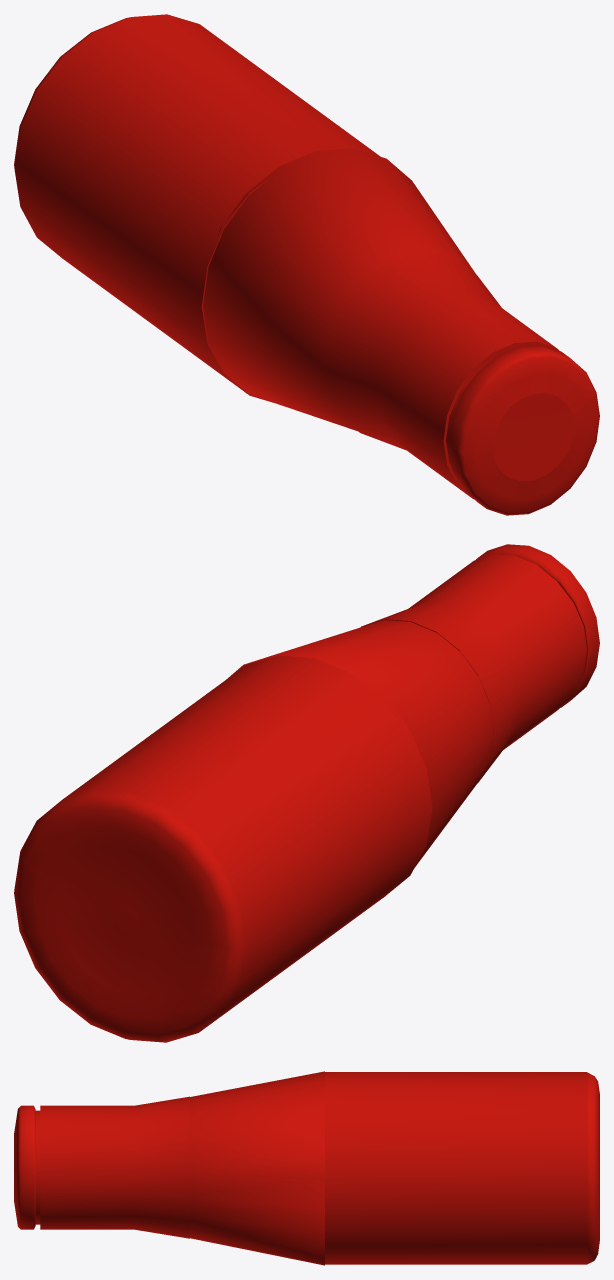
3 views of the same model, one above another, from view 1: azimuth 30°, elevation 25°; view 2: azimuth 150°, elevation 25°; view 3: azimuth 270°, elevation 25° (orthographic). The views are drawn at different scales.
Size of the model in its own units: 0.3268 by 0.3346 by 1.
